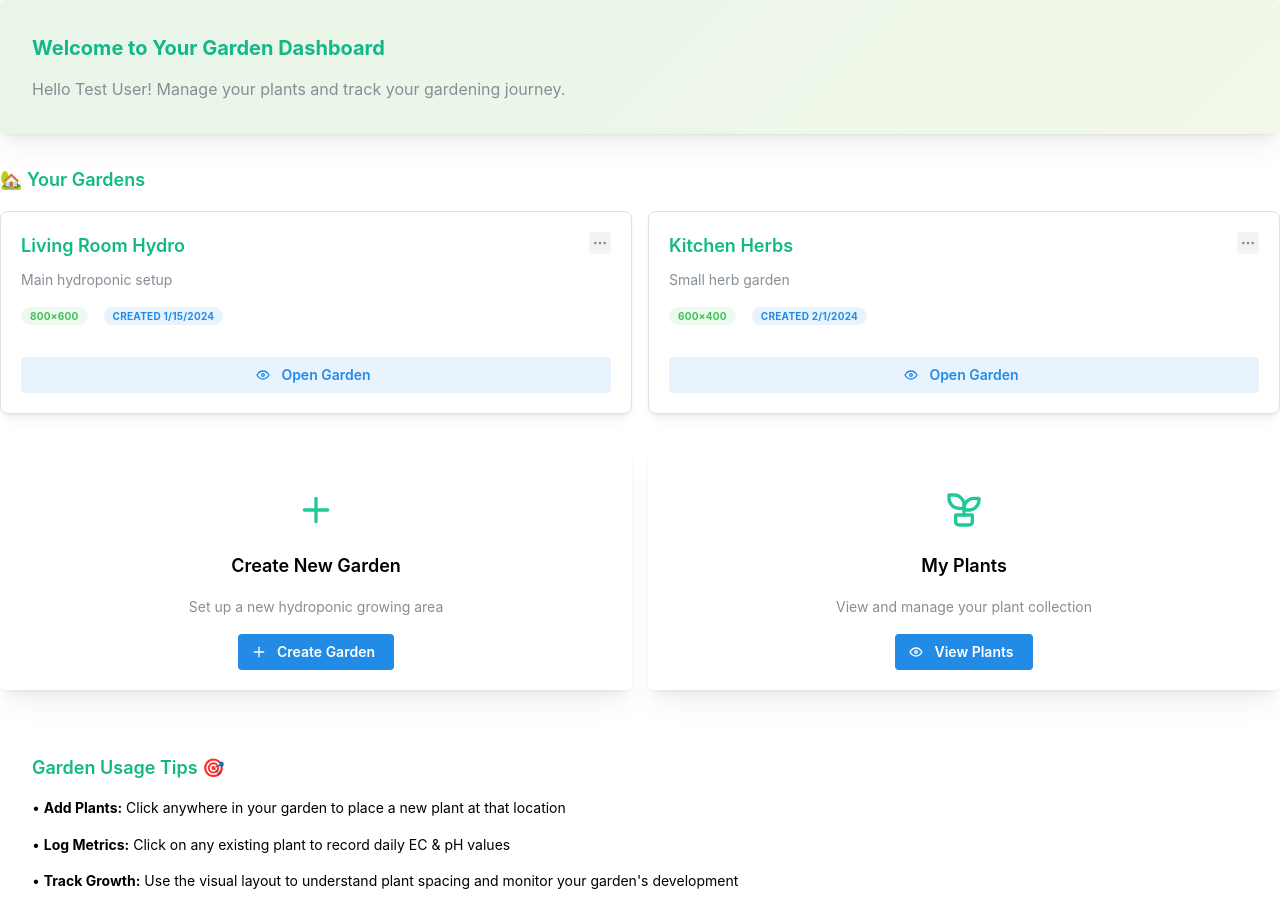
Test: Dashboard Component › Edit Garden Modal › opens edit modal with canvas data
Expected: the text "Living Room Hydro" is shown, [21, 235, 185, 256]
Click the button without text in the row of "Living Room Hydro" at (600, 243), box [589, 232, 611, 254]
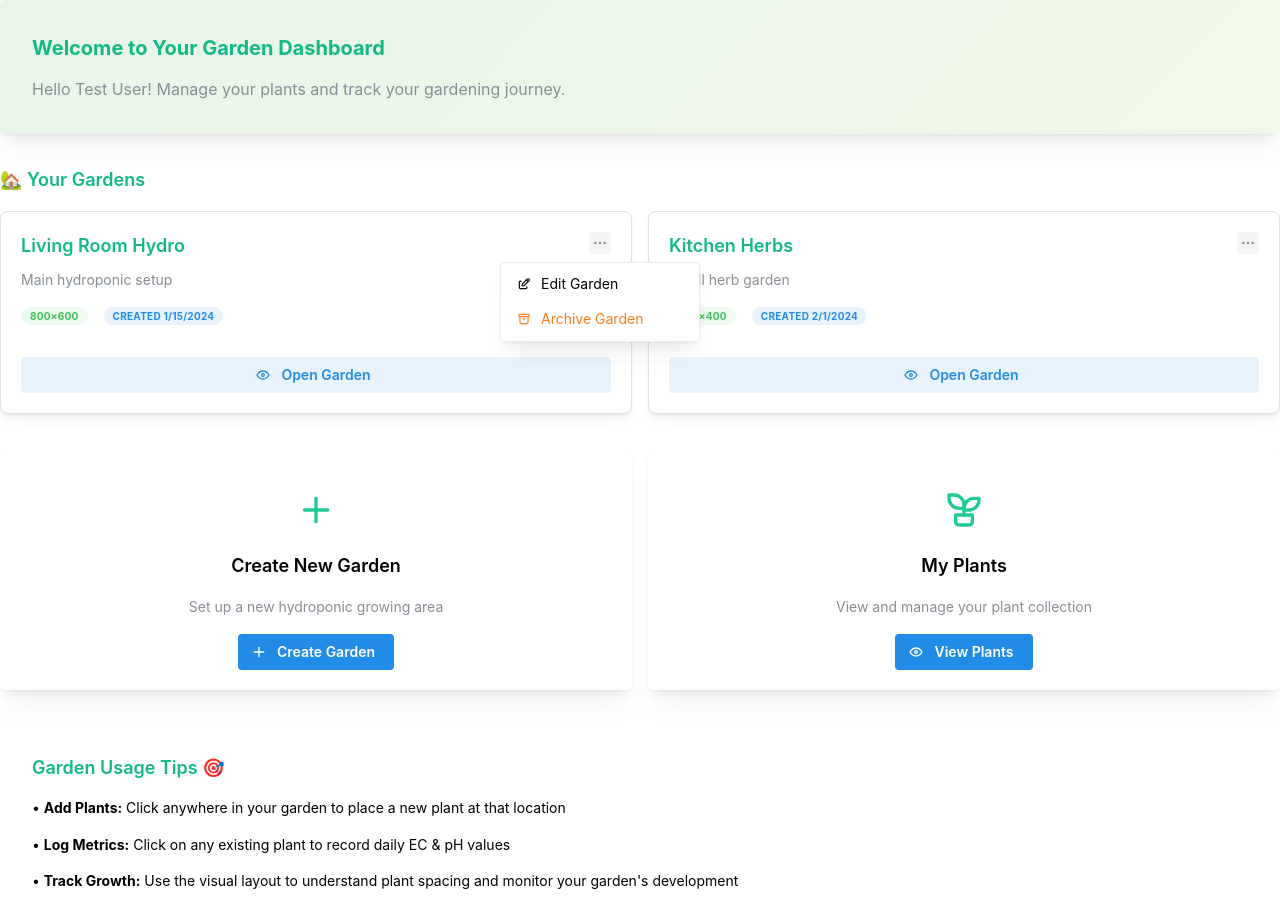
Expected: the text "Edit Garden" is shown, [541, 275, 618, 292]
Click the menu item "Edit Garden" at (600, 284), box [505, 267, 695, 302]
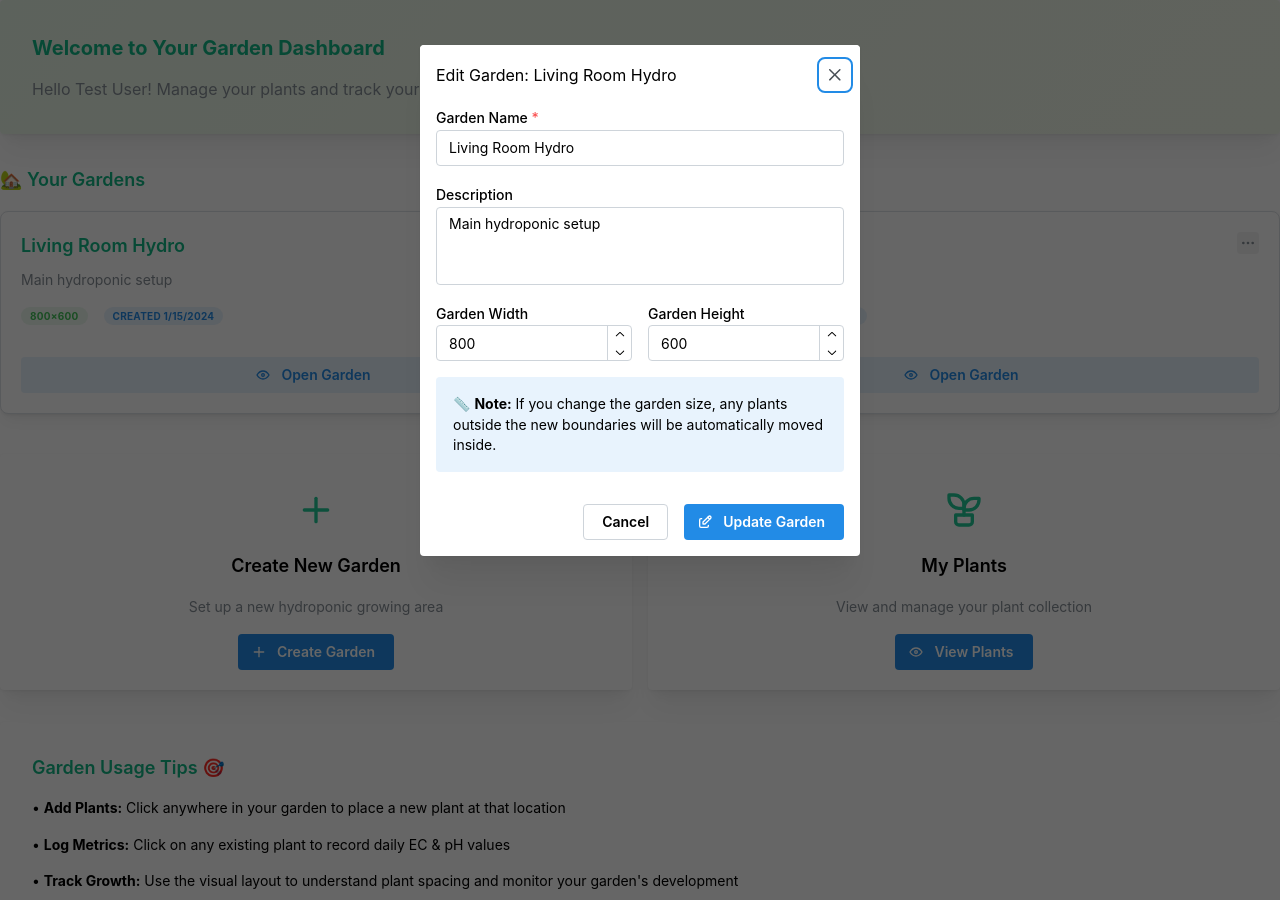
Expected: the dialog is shown, [420, 45, 860, 556]
Expected: the heading "Edit Garden: Living Room Hydro" is shown, [436, 67, 676, 83]
Expected: the field showing "Living Room Hydro" is shown, [436, 130, 844, 166]
